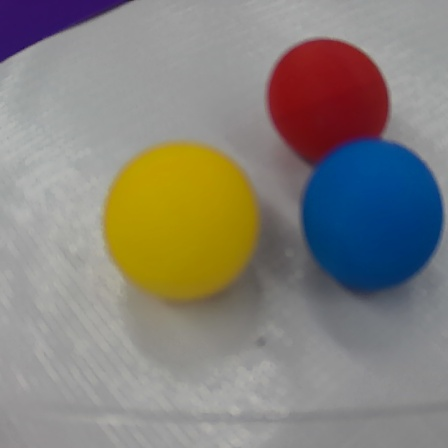blue: (296, 138, 447, 302)
red: (263, 32, 397, 170)
yellow: (101, 140, 266, 309)
